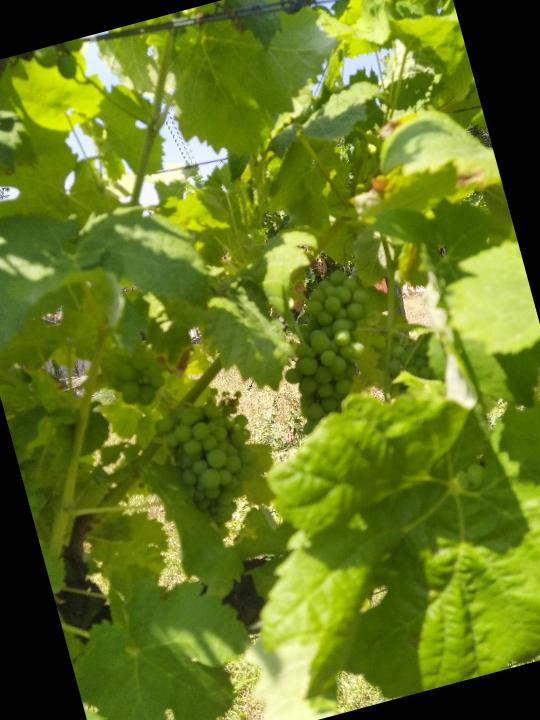grape: (258, 262, 403, 439), (147, 386, 274, 535)
